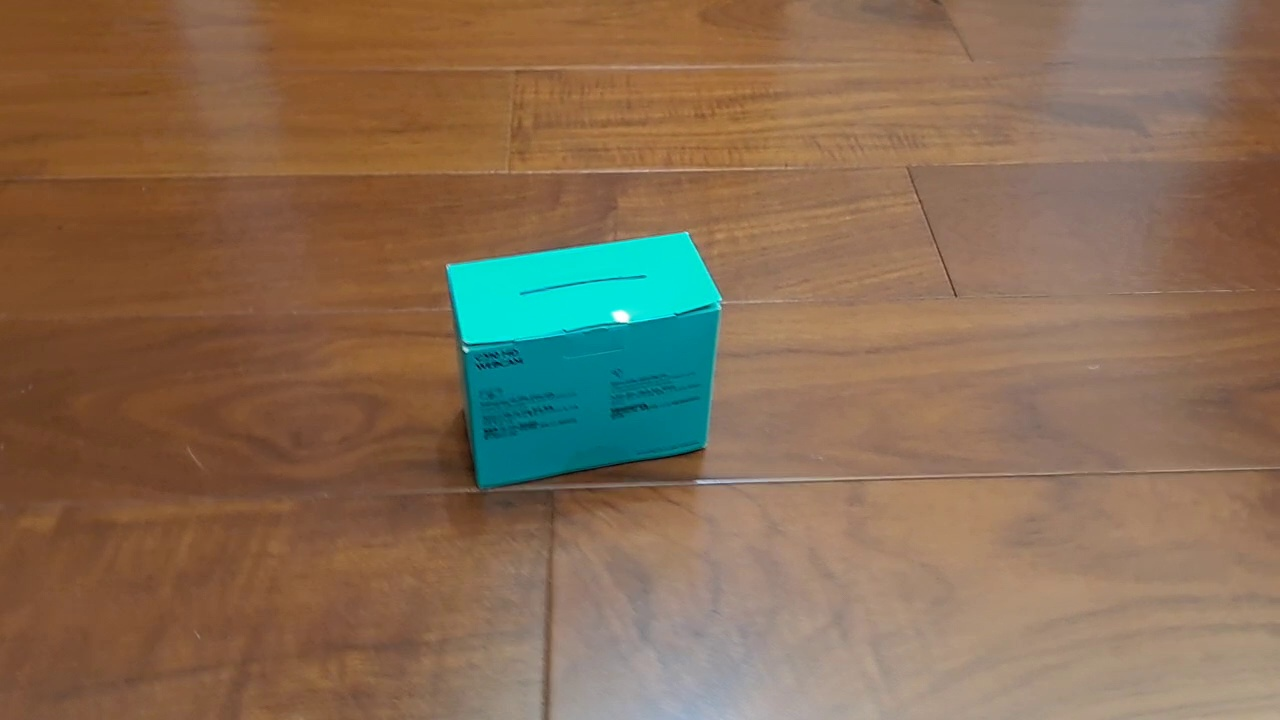webcam: (443, 228, 724, 492)
